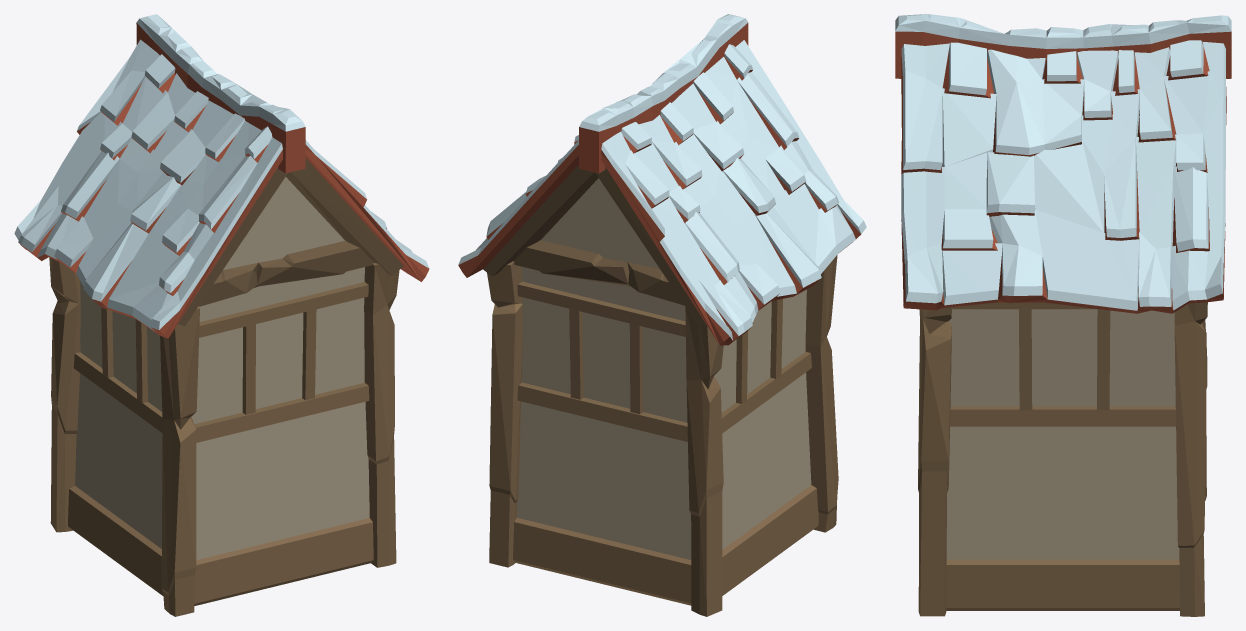
The model's file is SM_Bld_House_RoomTall_06_Snow.gltf.
The picture shows the model from 3 angles, left to right: view 1: azimuth 30°, elevation 25°; view 2: azimuth 150°, elevation 25°; view 3: azimuth 270°, elevation 25°; orthographic projection. The views are drawn at different scales.
Visible parts, largest first — view 1: SM_Bld_House_RoomTall_06_Snow; view 2: SM_Bld_House_RoomTall_06_Snow; view 3: SM_Bld_House_RoomTall_06_Snow.
Boxes of the visible parts, bbox=[...] form: SM_Bld_House_RoomTall_06_Snow: bbox=[14, 14, 429, 616]; SM_Bld_House_RoomTall_06_Snow: bbox=[458, 14, 866, 616]; SM_Bld_House_RoomTall_06_Snow: bbox=[895, 14, 1231, 616].
Bounding box in the file's own units: 3.6 × 5.75 × 3.26.
1 material, 1 textured.
